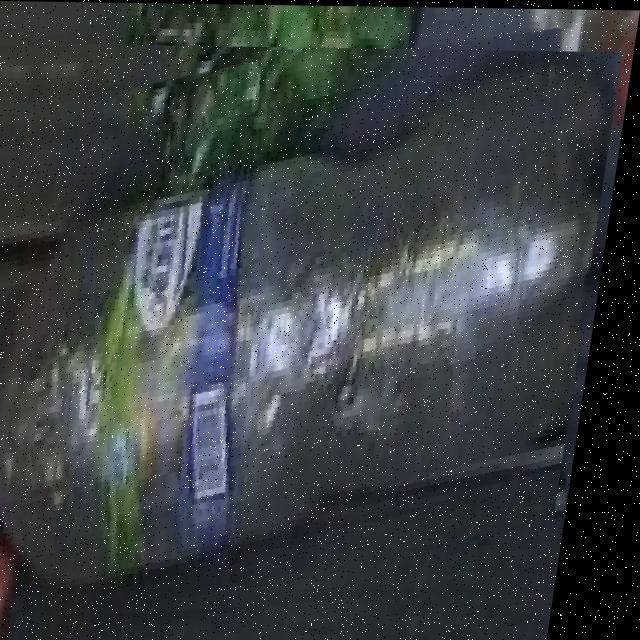plasticbottle: (0, 42, 624, 635)
plasticbottlecap: (0, 494, 14, 621)
